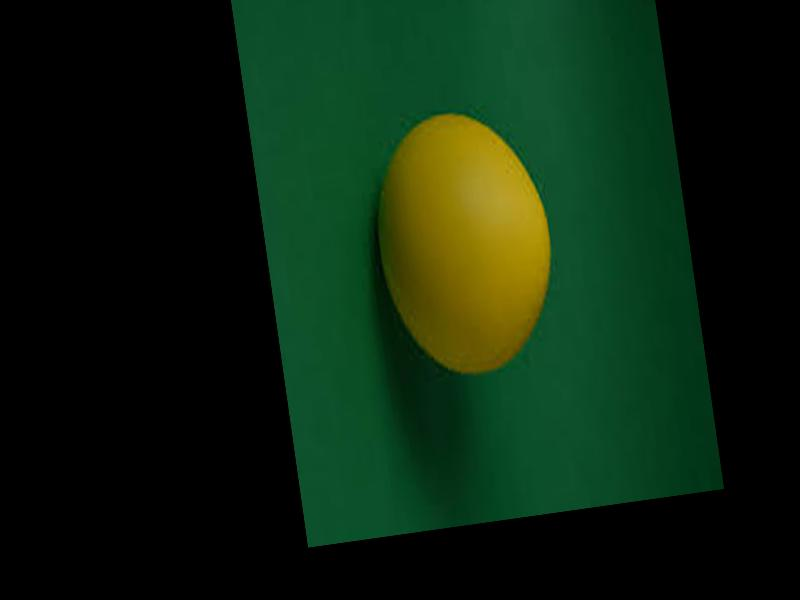Eggs: (360, 98, 567, 377)
